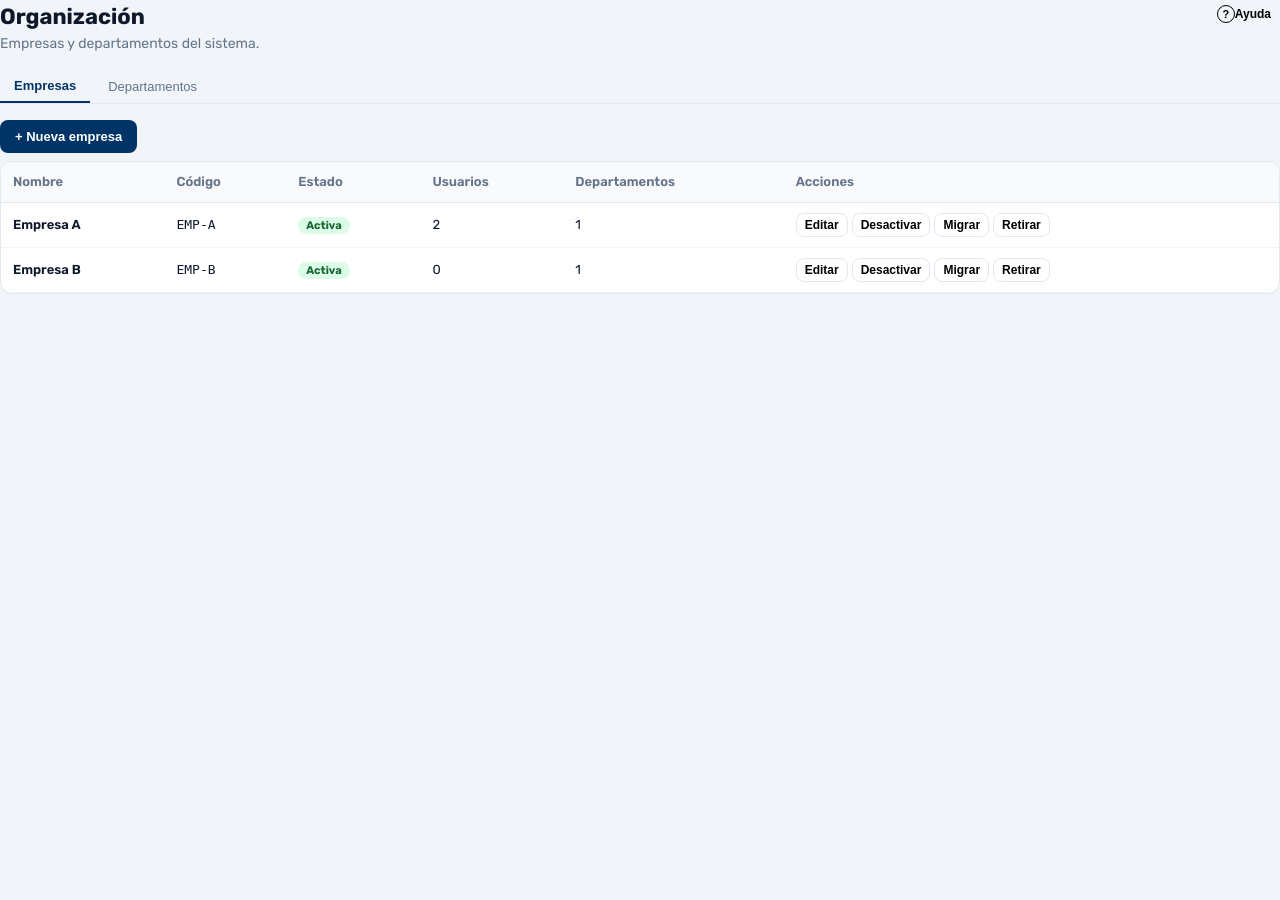
Organización 12I — departamentos › crear departamento con empresa y responsable
This screenshot has width=1280, height=900.
Click the tab "Departamentos" at (153, 86), box [94,70,211,103]
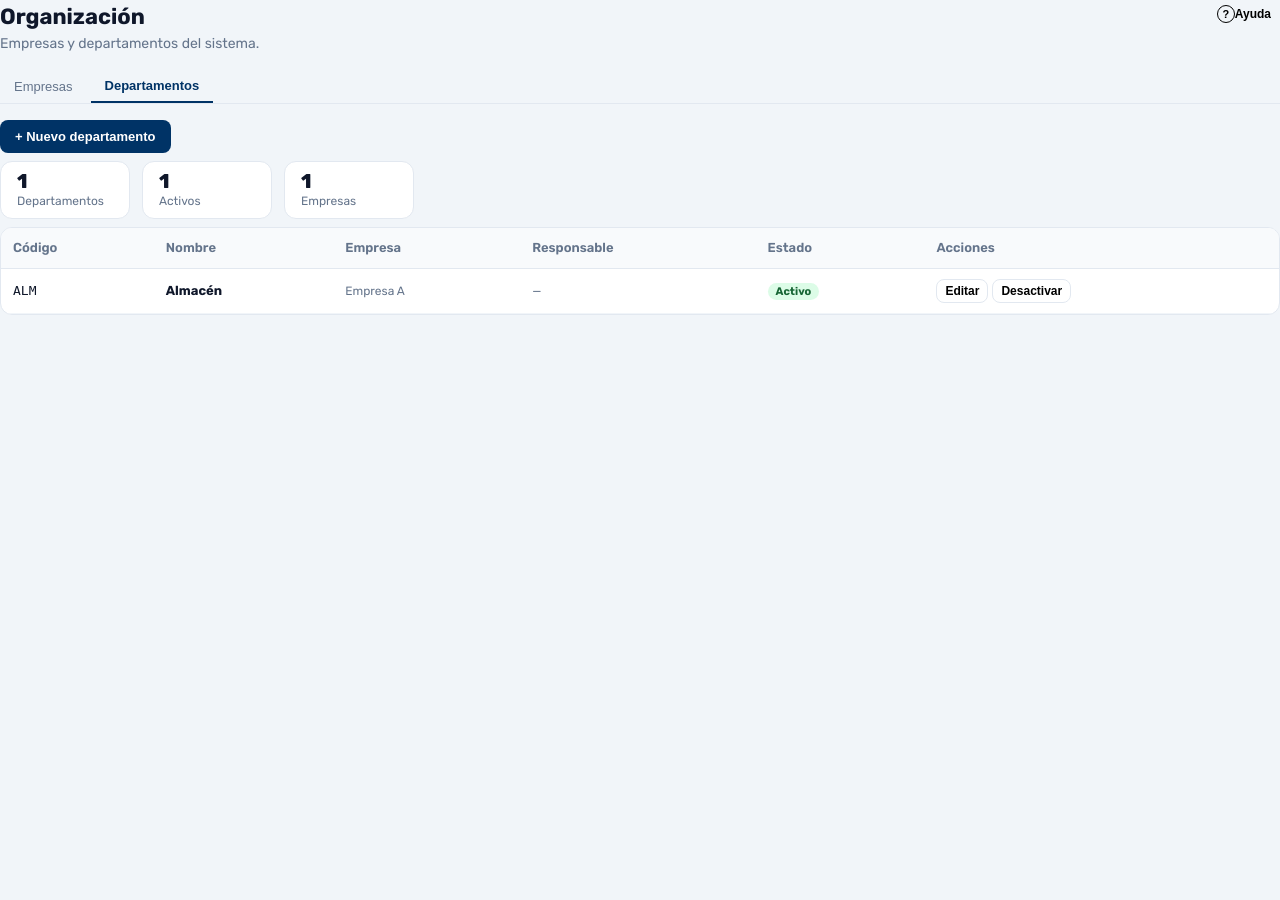
Click the button "+ Nuevo departamento" at (85, 136), box [0,120,170,153]
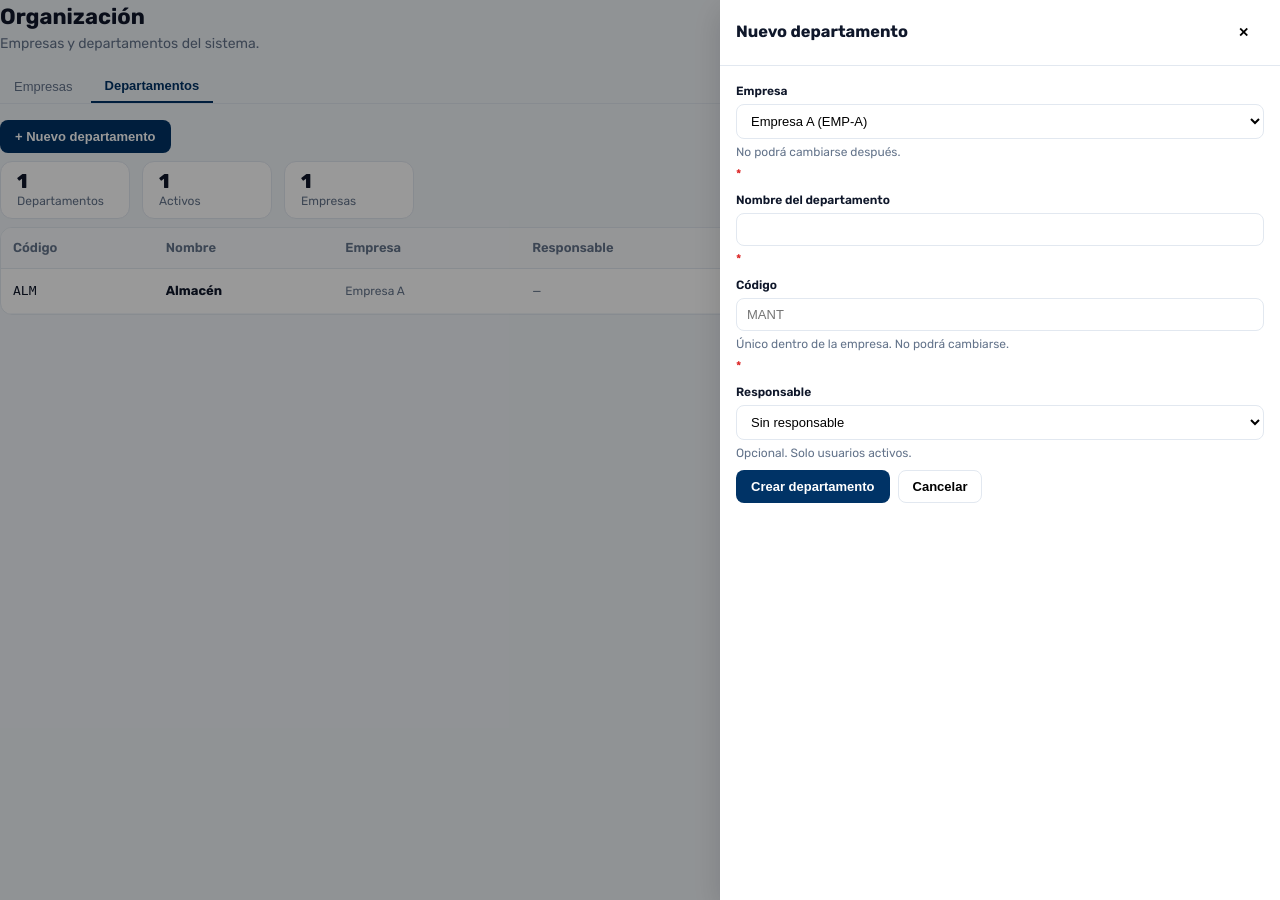
Type "Logística" into the field labelled "Nombre del departamento" at (1000, 230), box [736,213,1264,246]
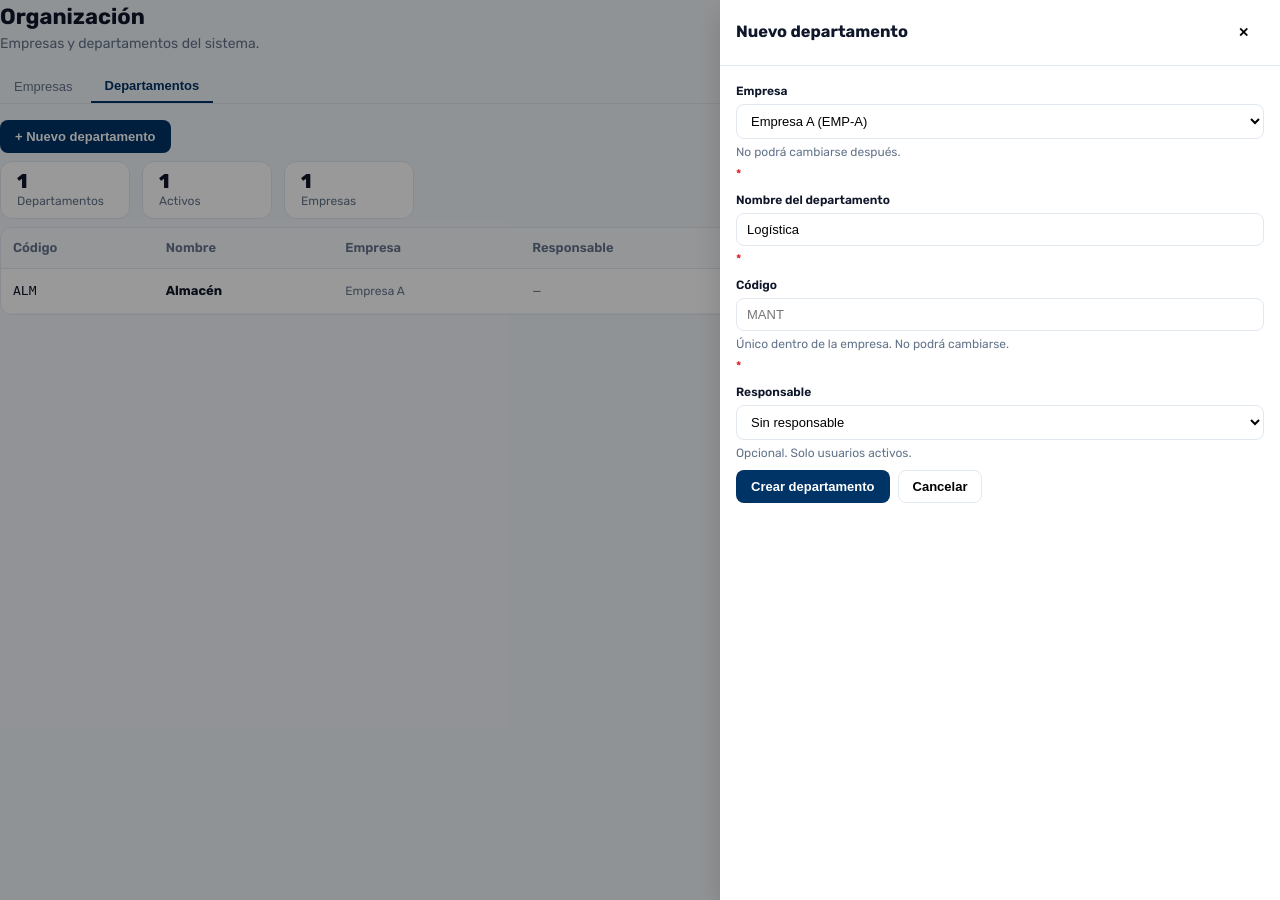
Type "LOG" into the field named "Código del departamento" at (1000, 314), box [736,298,1264,331]
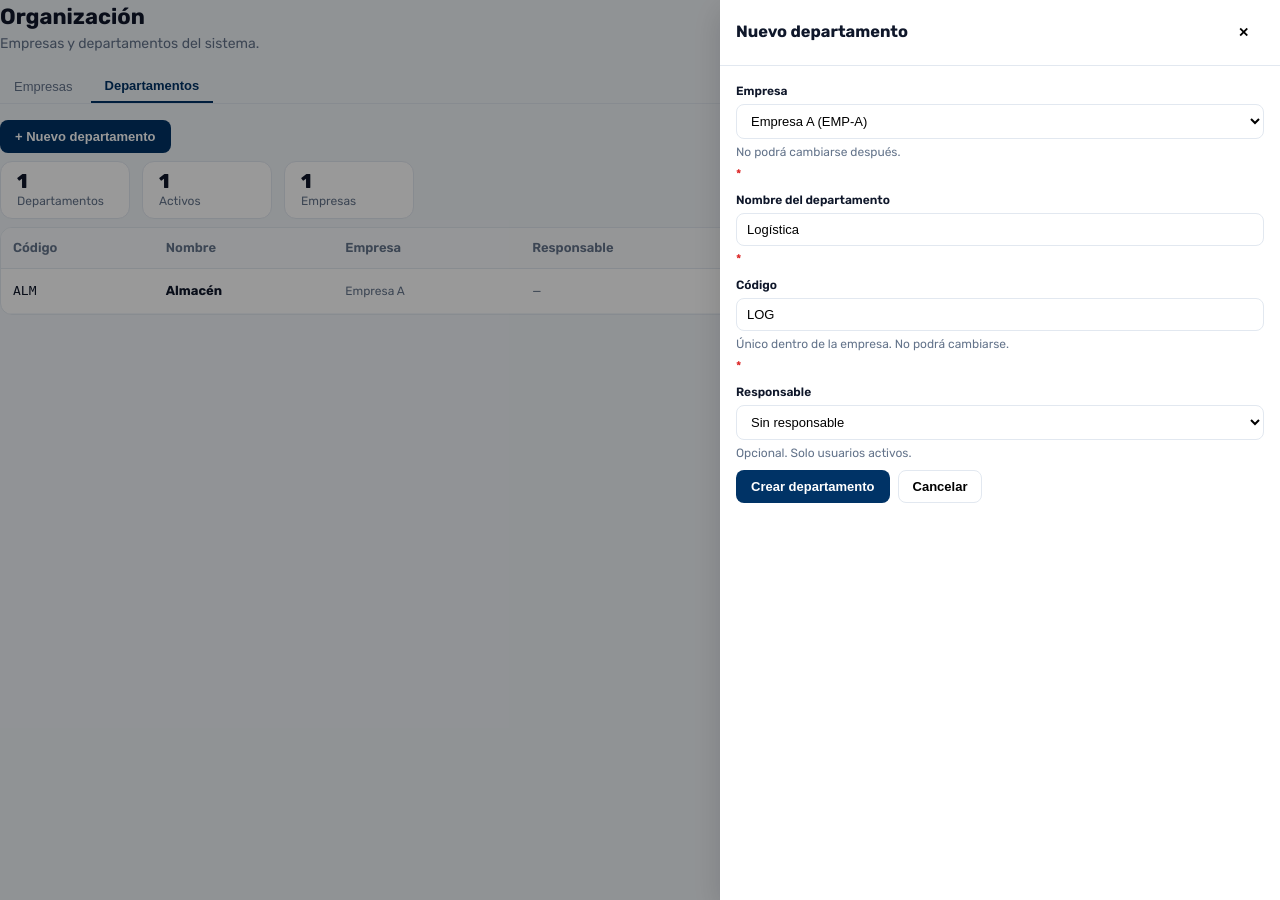
Select "Empresa A (EMP-A)" in the dropdown named "Empresa del departamento" at (1000, 122), box [736,104,1264,139]
Click the button "Crear departamento" at (813, 486), box [736,470,890,503]
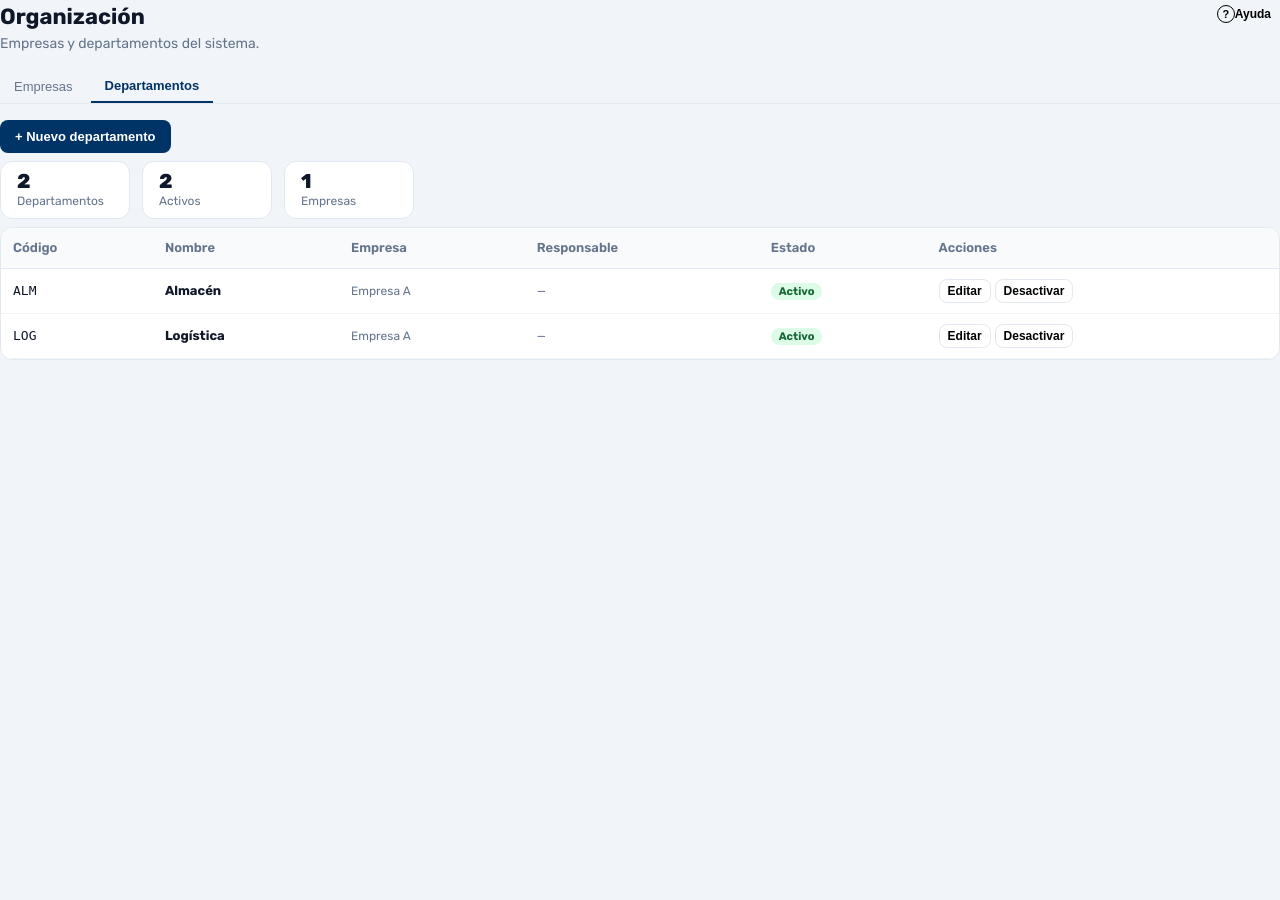
Check: the text "Logística" is shown, box [165,328,225,343]
